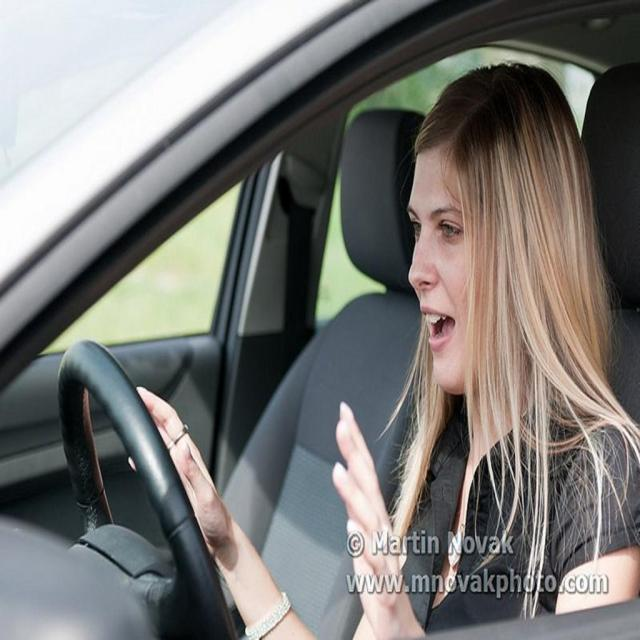Face: (403, 145, 487, 404)
